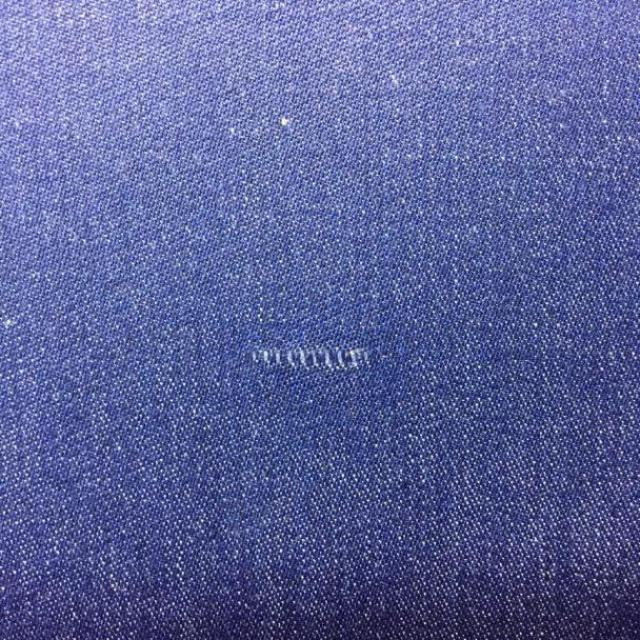Knot: (252, 348, 371, 371)
